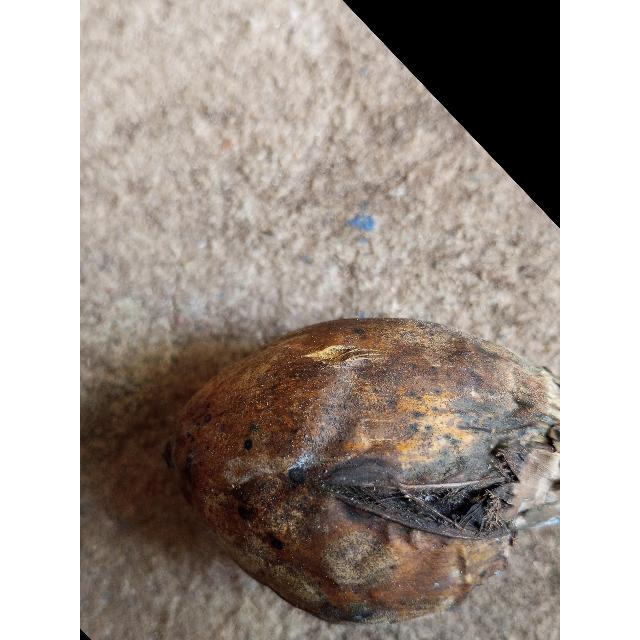damaged: (165, 319, 559, 622)
